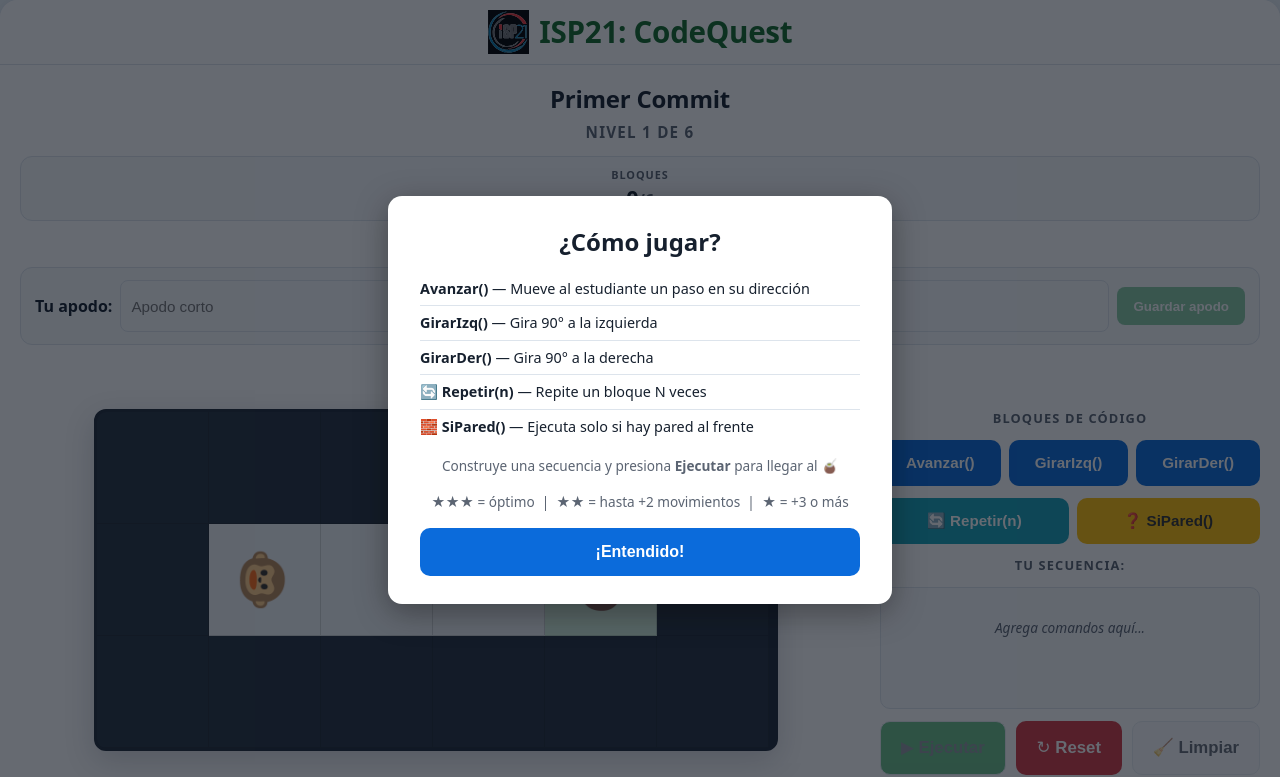
App › muestra la opción de agregar el apodo desde el primer nivel
The image size is (1280, 777).
Click the button "¡Entendido!".
click(640, 552)  # box [420, 528, 860, 576]
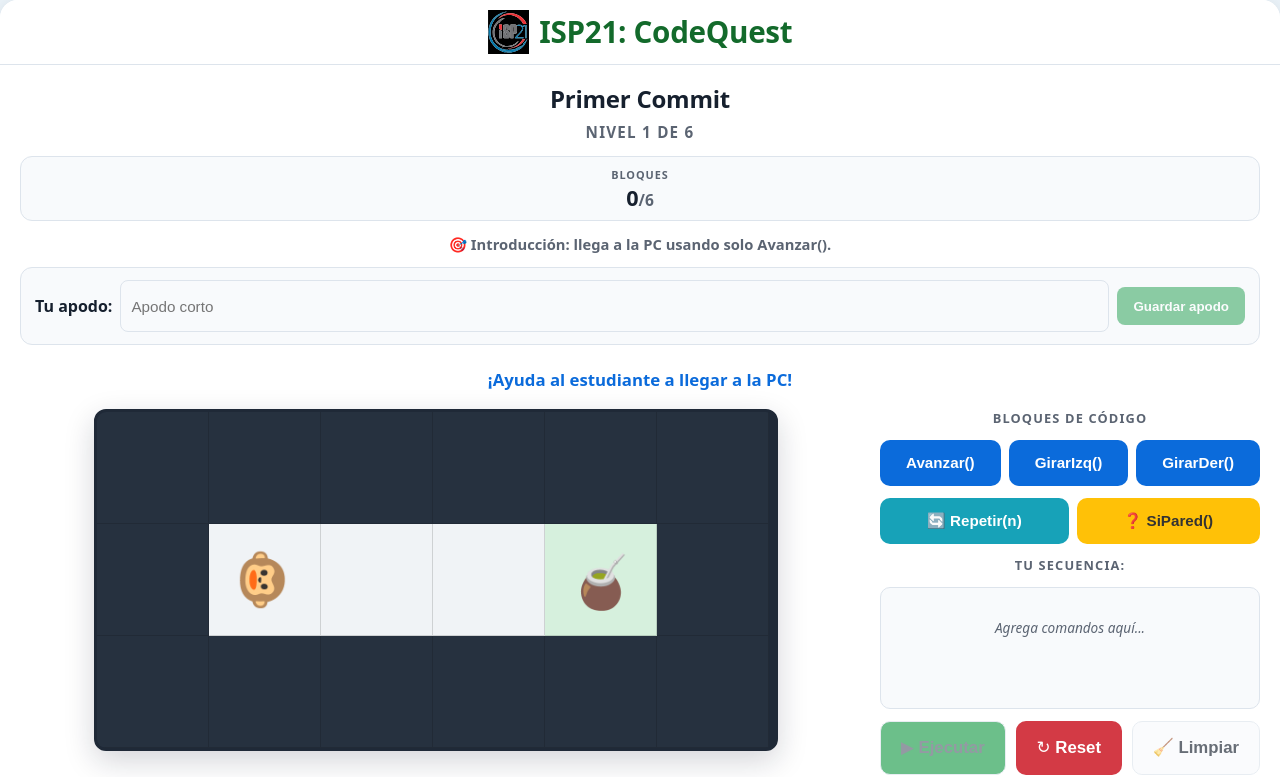
Type "Messi" into the field labelled "Tu apodo:".
click(615, 306); type("Messi")  # box [120, 280, 1109, 332]
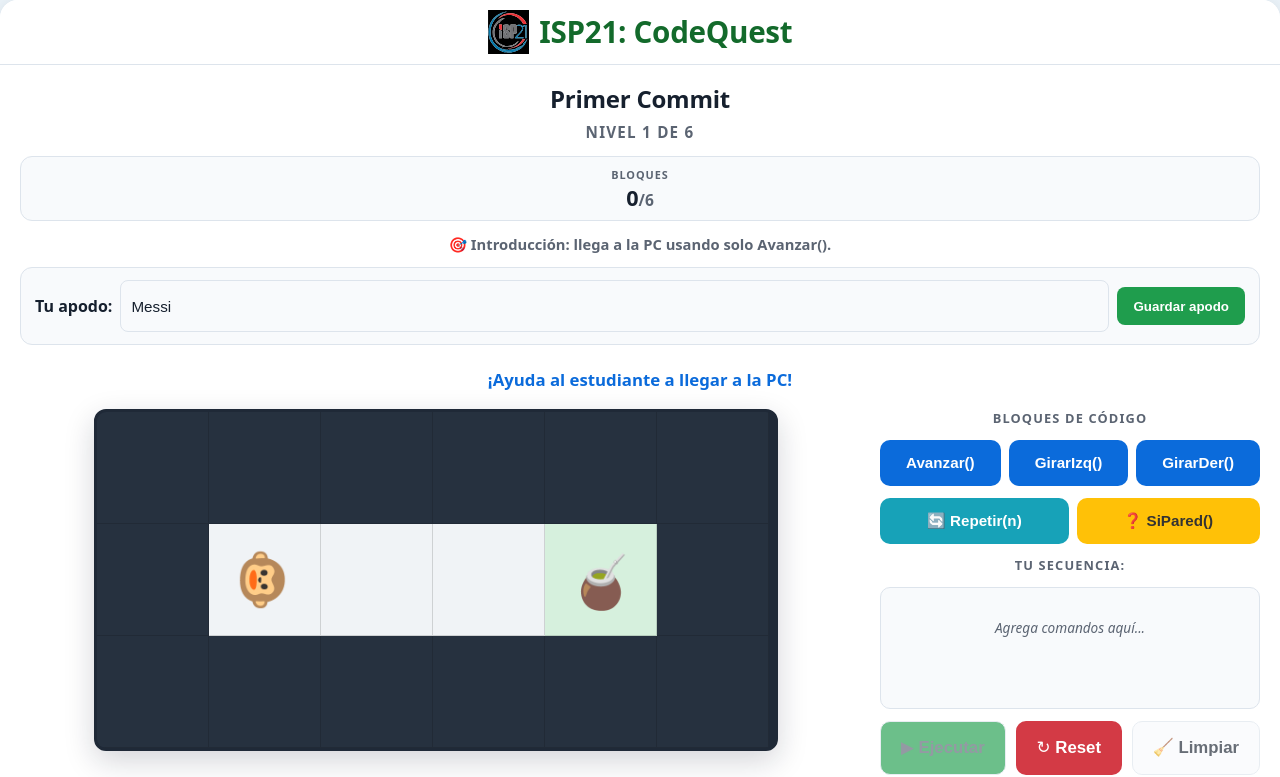
Click the button "Guardar apodo".
click(1181, 306)  # box [1118, 287, 1245, 325]
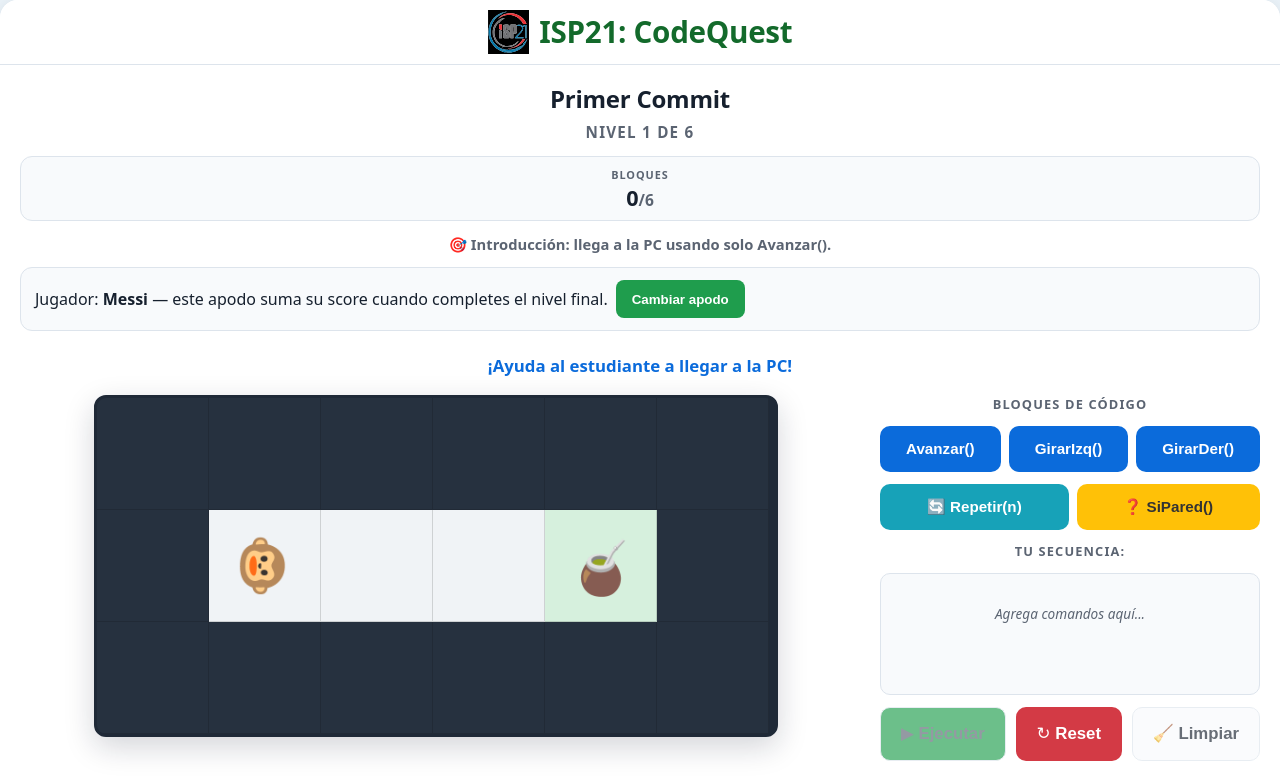
Check: the text "Messi" is shown, box [103, 288, 148, 310]
Check: the label labelled "Tu apodo:" is gone
Check: the button "Cambiar apodo" is shown, box [616, 280, 745, 318]
